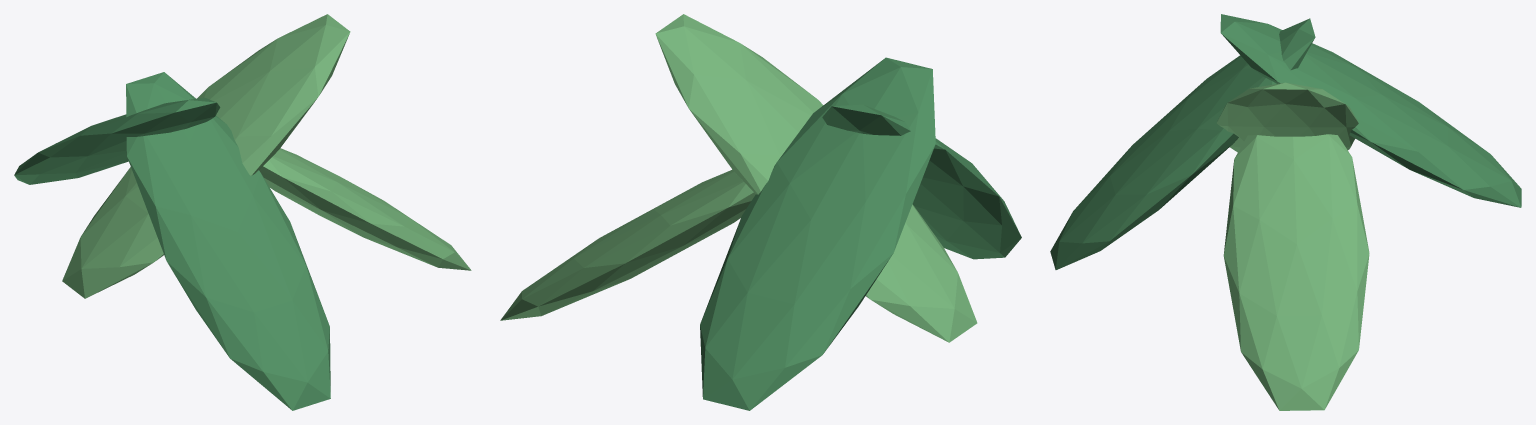
Rendered from prop_uw_broadleaf_a.glb.
The picture shows the model from 3 angles, left to right: view 1: azimuth 30°, elevation 25°; view 2: azimuth 150°, elevation 25°; view 3: azimuth 270°, elevation 25°; orthographic projection. The views are drawn at different scales.
Parts seen in each view (by area): view 1: bla_1, bla_0, bla_2, bla_3; view 2: bla_3, bla_0, bla_2, bla_1; view 3: bla_2, bla_1, bla_3, bla_0.
Boxes of the visible parts, x1,y1,x2,y2 form: bla_1: [126, 72, 330, 410]; bla_0: [62, 14, 350, 298]; bla_2: [259, 148, 471, 270]; bla_3: [14, 97, 220, 184]; bla_3: [700, 57, 935, 410]; bla_0: [655, 14, 977, 342]; bla_2: [500, 169, 755, 320]; bla_1: [822, 104, 1021, 259]; bla_2: [1223, 134, 1369, 410]; bla_1: [1050, 18, 1315, 269]; bla_3: [1220, 14, 1521, 207]; bla_0: [1217, 82, 1358, 152].
Size of the model in its own units: 0.451 by 0.3072 by 0.4974.
